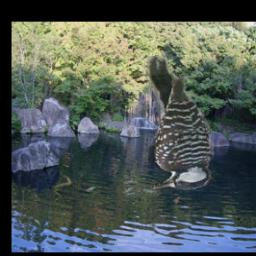Woodpecker: (143, 57, 215, 193)
